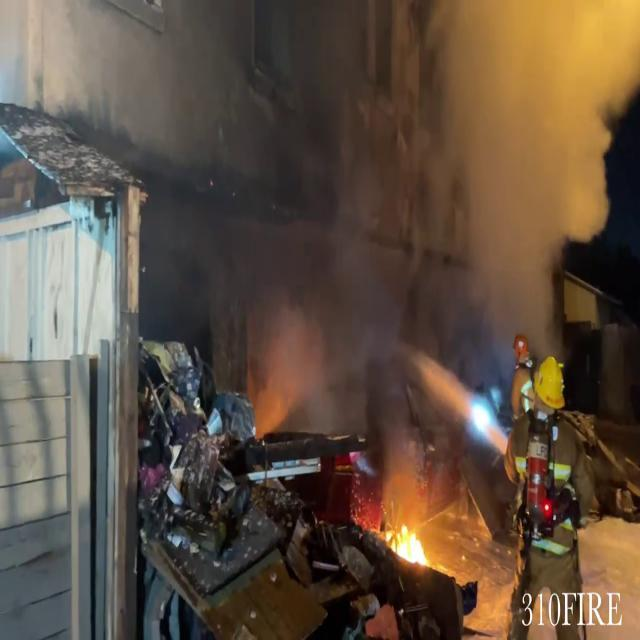Fire: (380, 515, 440, 575)
Smoke: (434, 1, 640, 312)
